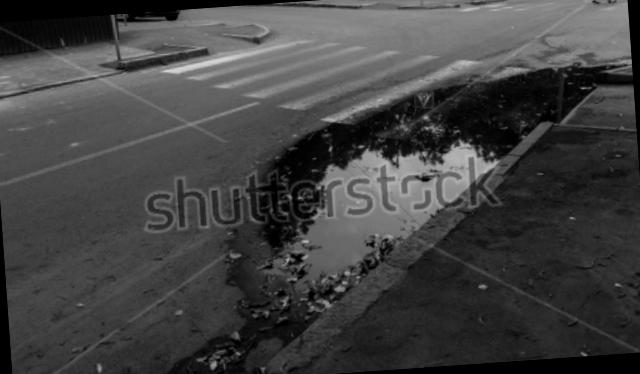Pothole: (145, 41, 640, 374)
